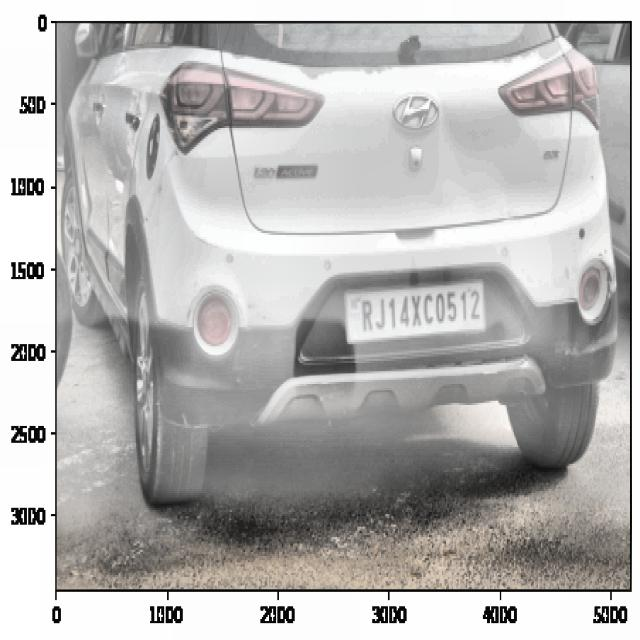license_plate: (355, 279, 485, 344)
